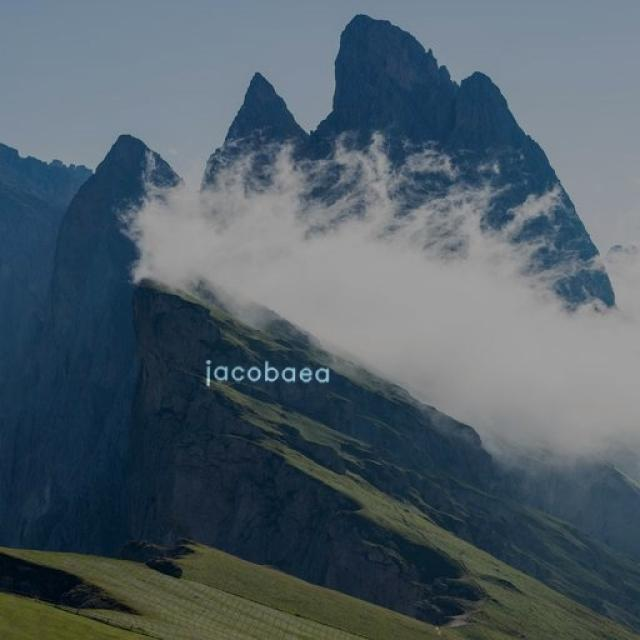watermark: (197, 358, 351, 386)
